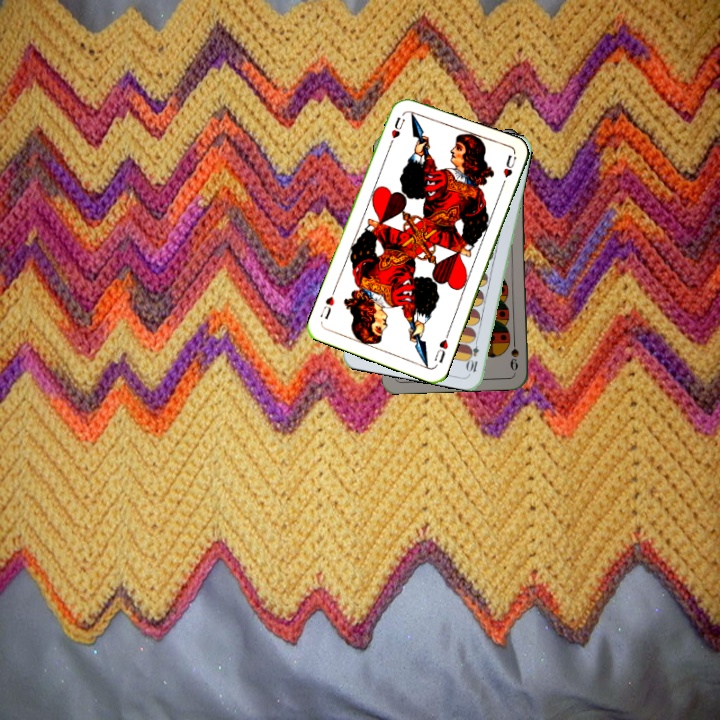E10: (464, 334, 482, 375)
HU: (430, 329, 452, 366), (387, 113, 407, 141)
S9: (506, 333, 521, 373)
